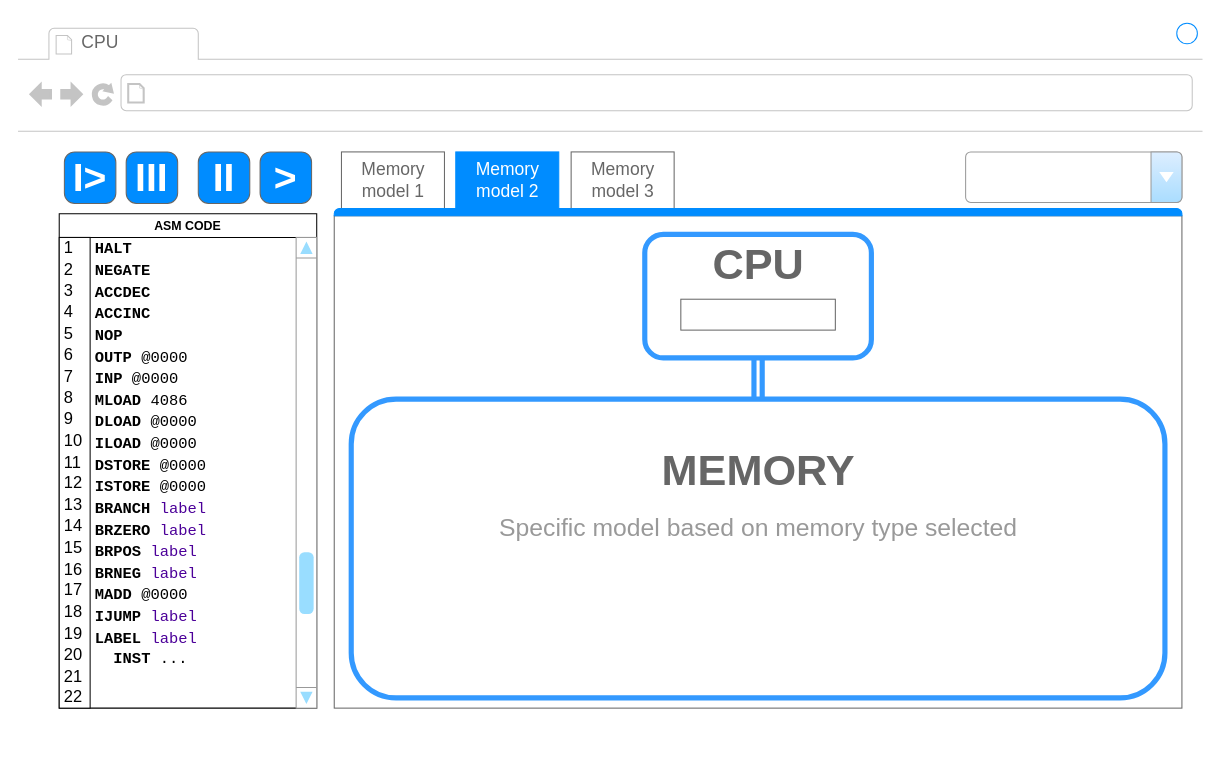
The diagram is 1221 pixels wide and 757 high, and some of its shapes have lost their labels. The shapes that lost their labels are listed below. From the top down, each one's centre as x and y in pixels, then its label:
At pixel 280 93: "https://www.example.com".
At pixel 1073 176: "Other models (if too many models)".
At pixel 757 314: "Current instruction".
